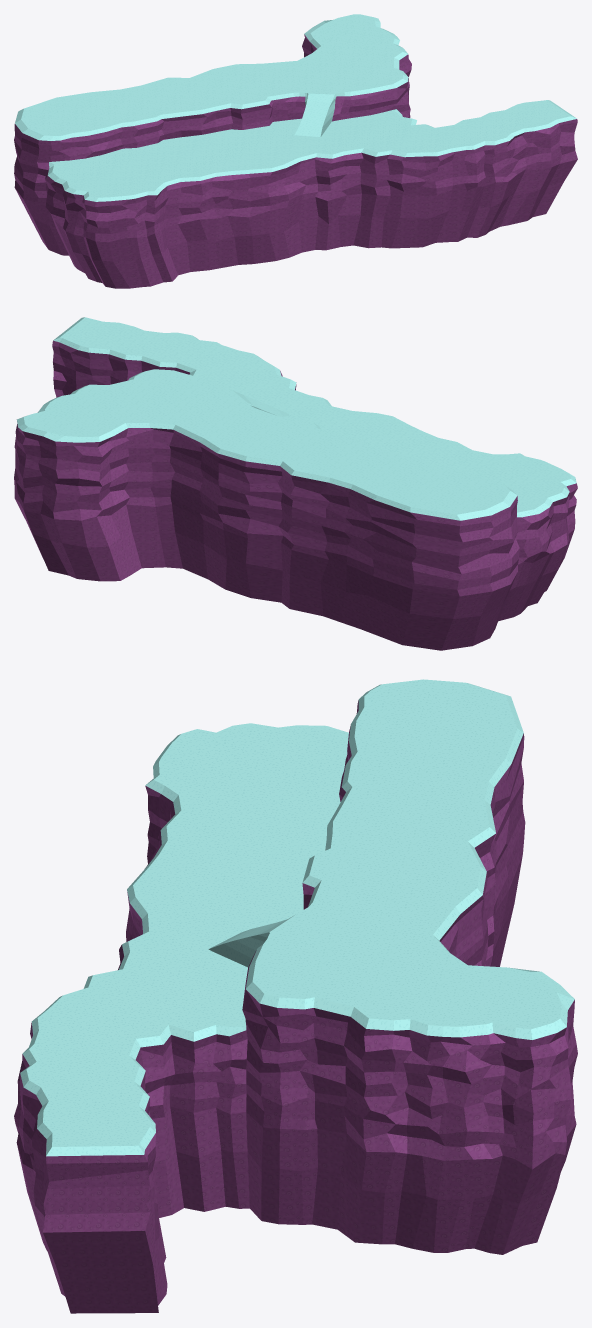
File: Final_ver_island.glb
3 renders of one model, top to bottom at view 1: azimuth 30°, elevation 25°; view 2: azimuth 150°, elevation 25°; view 3: azimuth 270°, elevation 25°, orthographic. The views are drawn at different scales.
Parts seen in each view (by area): view 1: Grass2-col; view 2: Grass2-col; view 3: Grass2-col.
Part boxes in pixels (<box>): Grass2-col: <box>14,14,577,288</box>; Grass2-col: <box>14,317,577,650</box>; Grass2-col: <box>14,679,577,1313</box>.
Size of the model in its own units: 37.31 by 9.49 by 20.62.
Materials: 3 (3 with a texture image).
